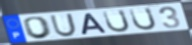3: (158, 6, 181, 29)
A: (80, 13, 109, 36)
O: (22, 16, 55, 40)
U: (101, 8, 132, 33), (49, 13, 79, 38), (128, 6, 158, 31)
